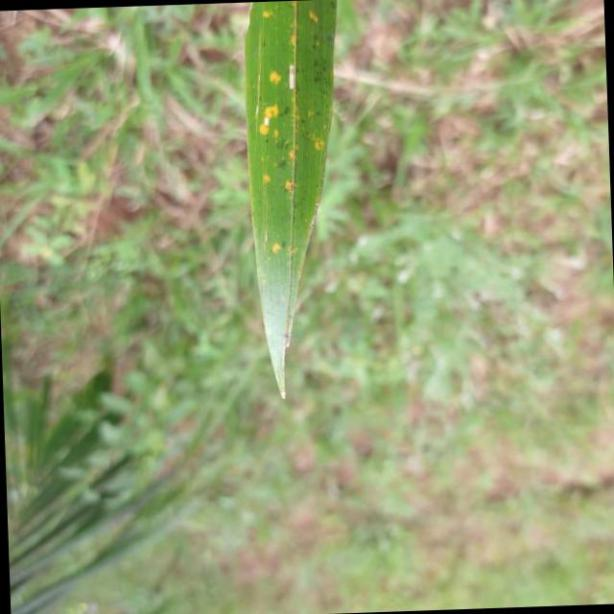Kalium: (242, 0, 338, 432)
